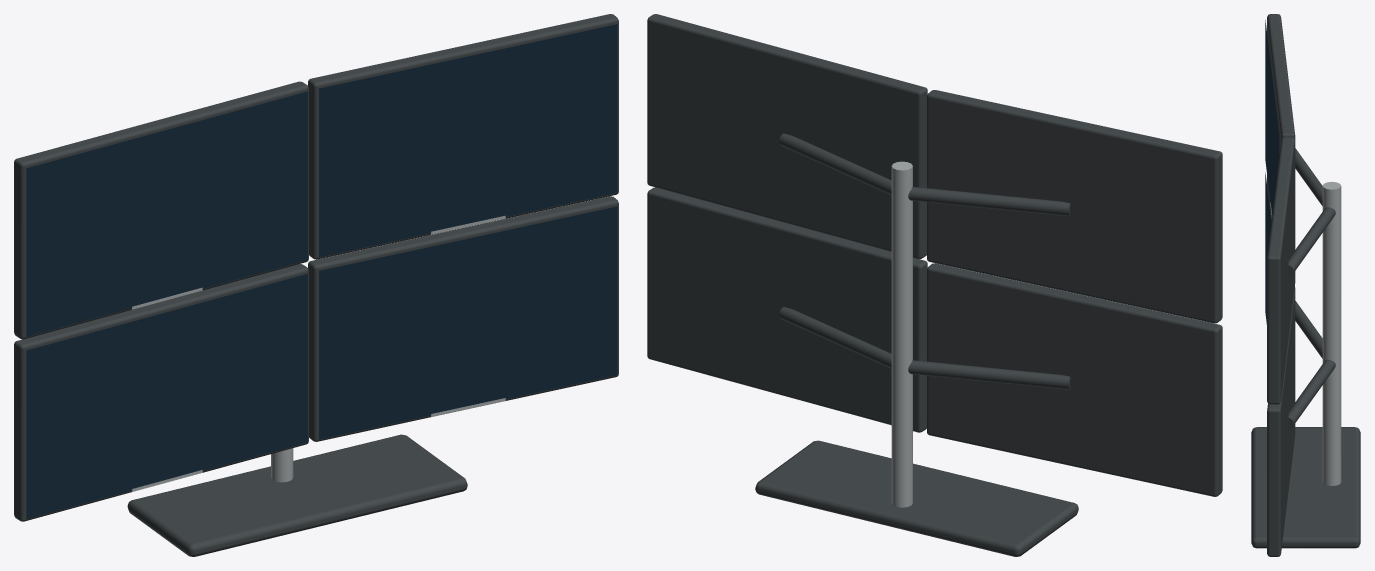
Rendered from mon_quad_market-fc7b49df10e9.glb.
3 renders of one model, left to right at view 1: azimuth 30°, elevation 25°; view 2: azimuth 150°, elevation 25°; view 3: azimuth 270°, elevation 25°, orthographic. The views are drawn at different scales.
Parts seen in each view (by area): view 1: Screen_Surface, surface_graphite, surface_steel; view 2: surface_graphite, surface_steel; view 3: surface_graphite, surface_steel, Screen_Surface.
Part boxes in pixels (left/top/right/bottom): Screen_Surface: left=26, top=24, right=617, bottom=519; surface_graphite: left=14, top=14, right=618, bottom=556; surface_steel: left=131, top=215, right=505, bottom=491; surface_graphite: left=647, top=14, right=1222, bottom=556; surface_steel: left=891, top=161, right=912, bottom=507; surface_graphite: left=1251, top=14, right=1360, bottom=556; surface_steel: left=1270, top=182, right=1341, bottom=485; Screen_Surface: left=1265, top=20, right=1279, bottom=324.
Bounding box in the file's own units: 1.12 × 0.7615 × 0.21.
